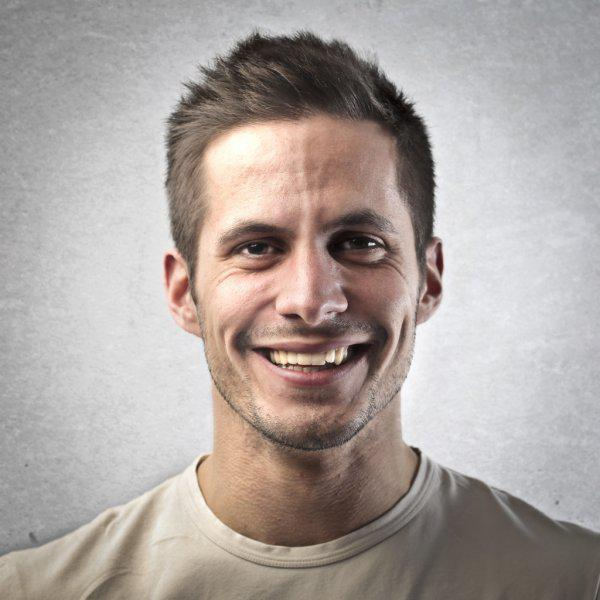Sober: (205, 139, 410, 411)
